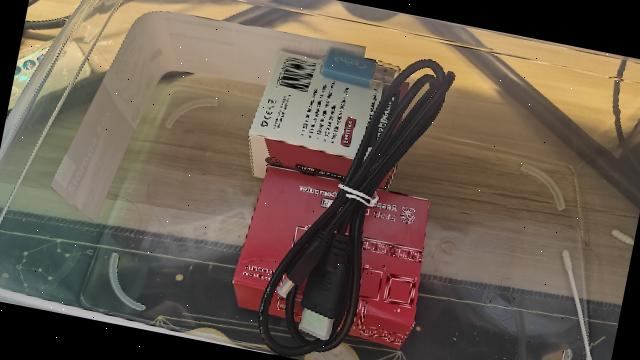charger_box: (229, 41, 420, 208)
hdmi_cable: (246, 37, 461, 360)
rpi_box: (212, 157, 445, 354)
sdcard_reader: (317, 44, 405, 93)
